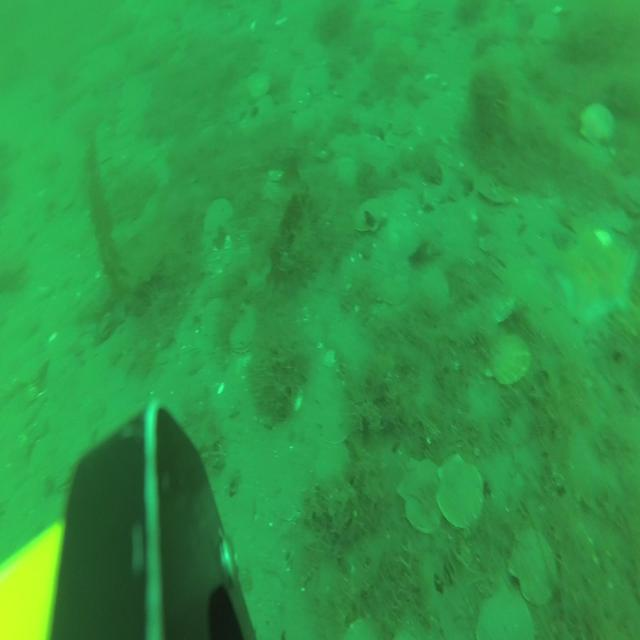scallop: (436, 449, 486, 533), (398, 458, 446, 536), (510, 529, 559, 604), (478, 591, 534, 640), (490, 332, 532, 392), (229, 306, 264, 357), (419, 270, 451, 320), (582, 102, 615, 150), (200, 297, 237, 338), (355, 195, 388, 236), (203, 200, 235, 242), (382, 267, 410, 313), (478, 176, 510, 215), (248, 68, 274, 104), (308, 65, 330, 95), (393, 106, 414, 136), (290, 84, 310, 115), (294, 113, 316, 138)
starfish: (554, 237, 640, 334)
